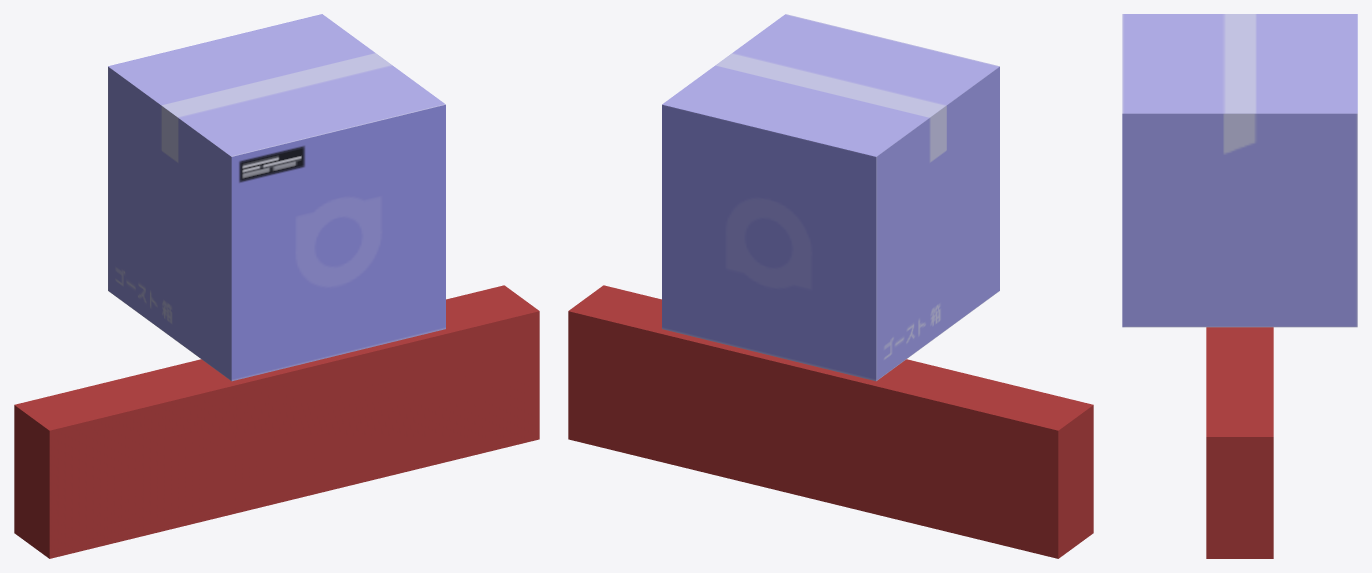
File: Icon_RemoveBlockDecoration.glb
The picture shows the model from 3 angles, left to right: view 1: azimuth 30°, elevation 25°; view 2: azimuth 150°, elevation 25°; view 3: azimuth 270°, elevation 25°; orthographic projection. The views are drawn at different scales.
Parts seen in each view (by area): view 1: Decoration Box, Minus Icon; view 2: Decoration Box, Minus Icon; view 3: Decoration Box, Minus Icon.
Part boxes in pixels (x1,y1,x2,y2): Decoration Box: (108,14,445,381); Minus Icon: (14,285,539,558); Decoration Box: (662,14,999,381); Minus Icon: (568,285,1093,558); Decoration Box: (1122,14,1357,327); Minus Icon: (1206,327,1273,558).
Bounding box in the file's own units: 1.6 × 1.25 × 0.7.
2 materials, 1 textured.
